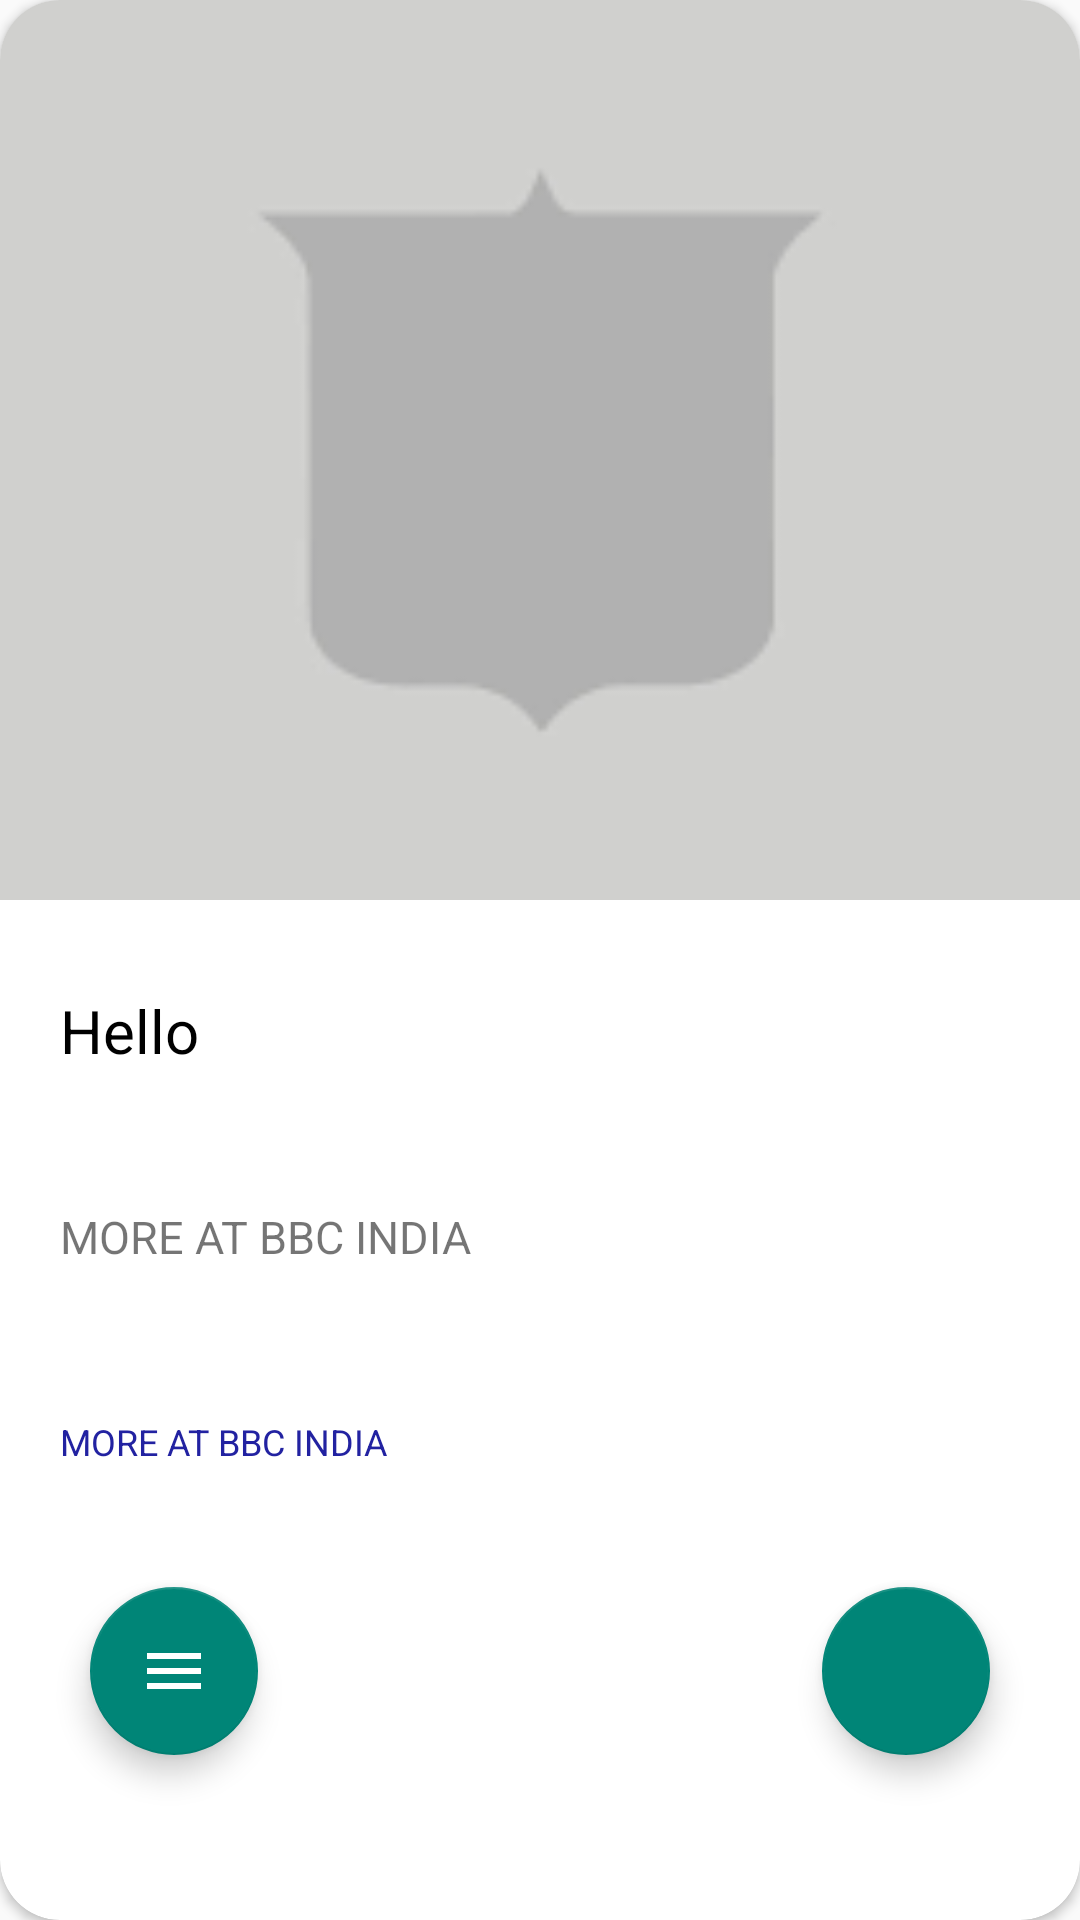

Icons on this 1080px x 1920px Android screen, each with its box as [x1, y1, x2, y2]:
menu: [90, 1587, 258, 1755]
